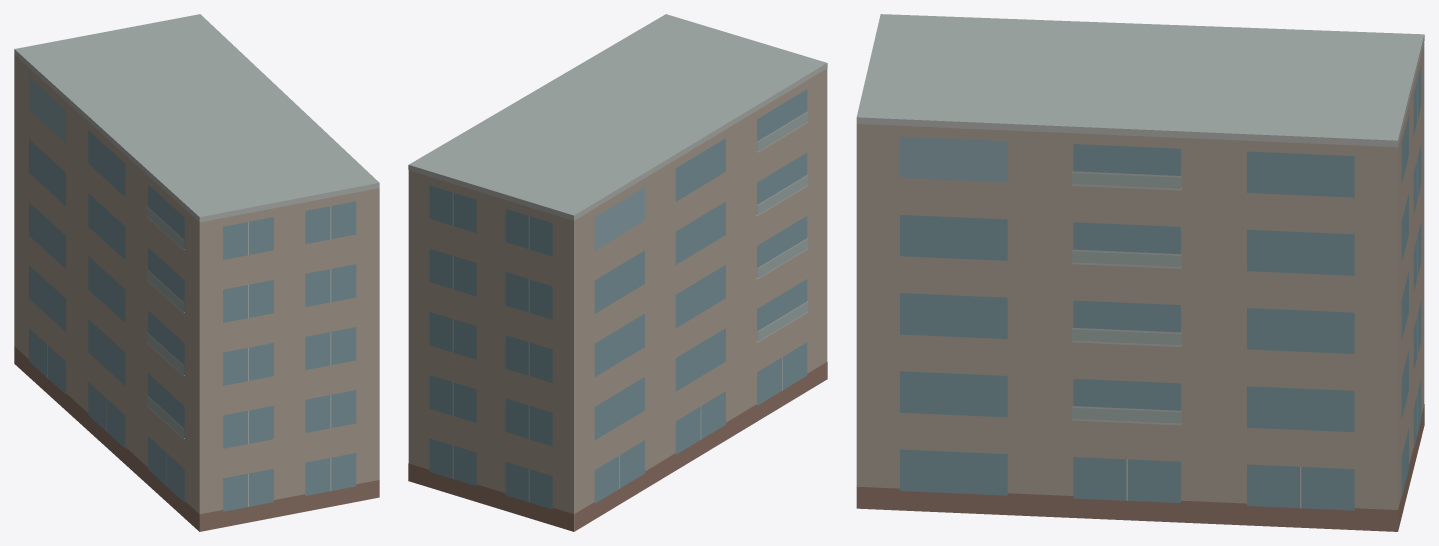
File: survey-upis-32970652.glb
The picture shows the model from 3 angles, left to right: view 1: azimuth 30°, elevation 25°; view 2: azimuth 150°, elevation 25°; view 3: azimuth 270°, elevation 25°; orthographic projection. The views are drawn at different scales.
Visible parts, largest first — view 1: survey-upis-32970652.tmp; view 2: survey-upis-32970652.tmp; view 3: survey-upis-32970652.tmp.
Boxes of the visible parts, box(x1,y1,x2,y2) form: survey-upis-32970652.tmp: box(14, 14, 379, 531); survey-upis-32970652.tmp: box(408, 14, 827, 531); survey-upis-32970652.tmp: box(856, 14, 1424, 531).
Bounding box in the file's own units: 10.08 × 14.5 × 19.08.
